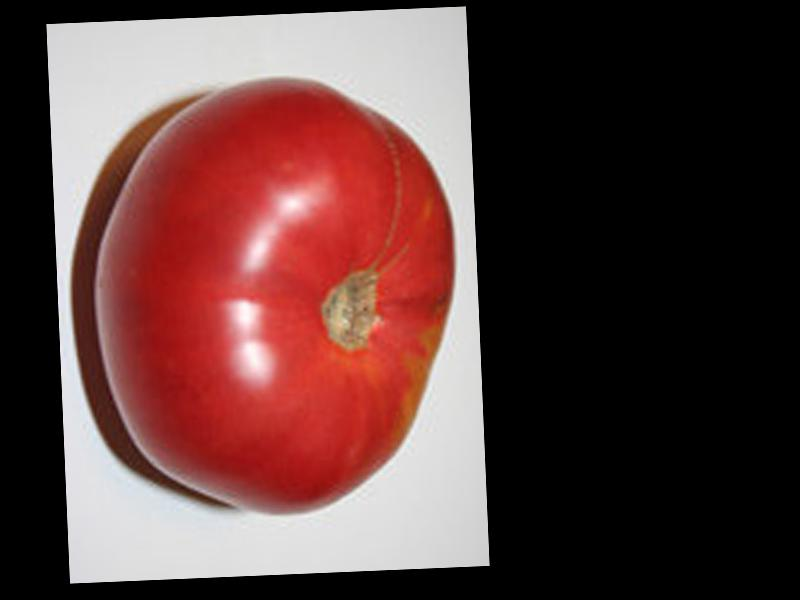Tomato: (96, 68, 470, 524)
